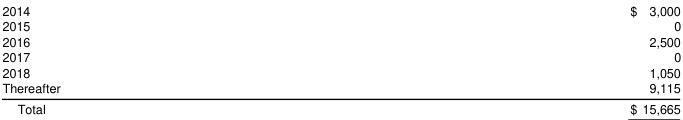table: (1, 1, 680, 116)
table column: (1, 1, 344, 116), (344, 1, 680, 116)
table row: (1, 97, 680, 116), (1, 79, 680, 97), (1, 1, 680, 17), (1, 17, 680, 33), (1, 48, 680, 64), (1, 33, 680, 48), (1, 64, 680, 79)
